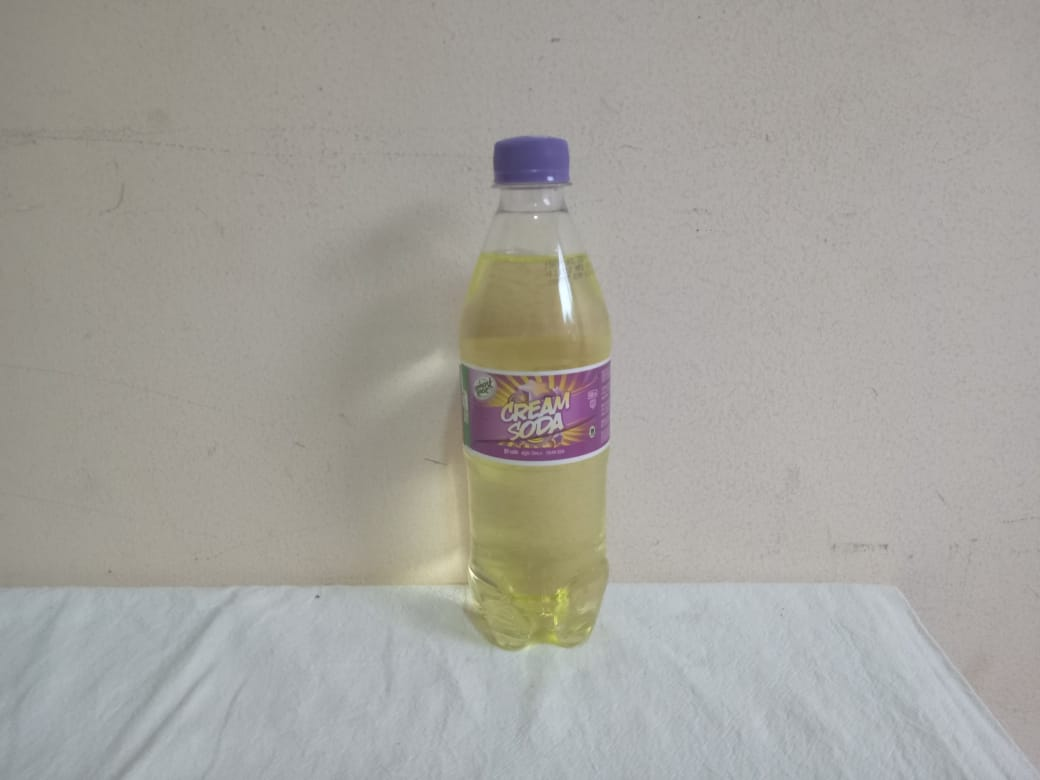S: (443, 134, 620, 661)
